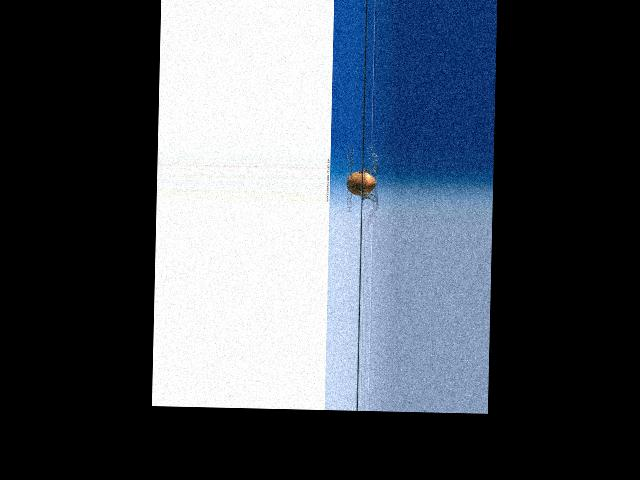egg: (346, 171, 375, 196)
